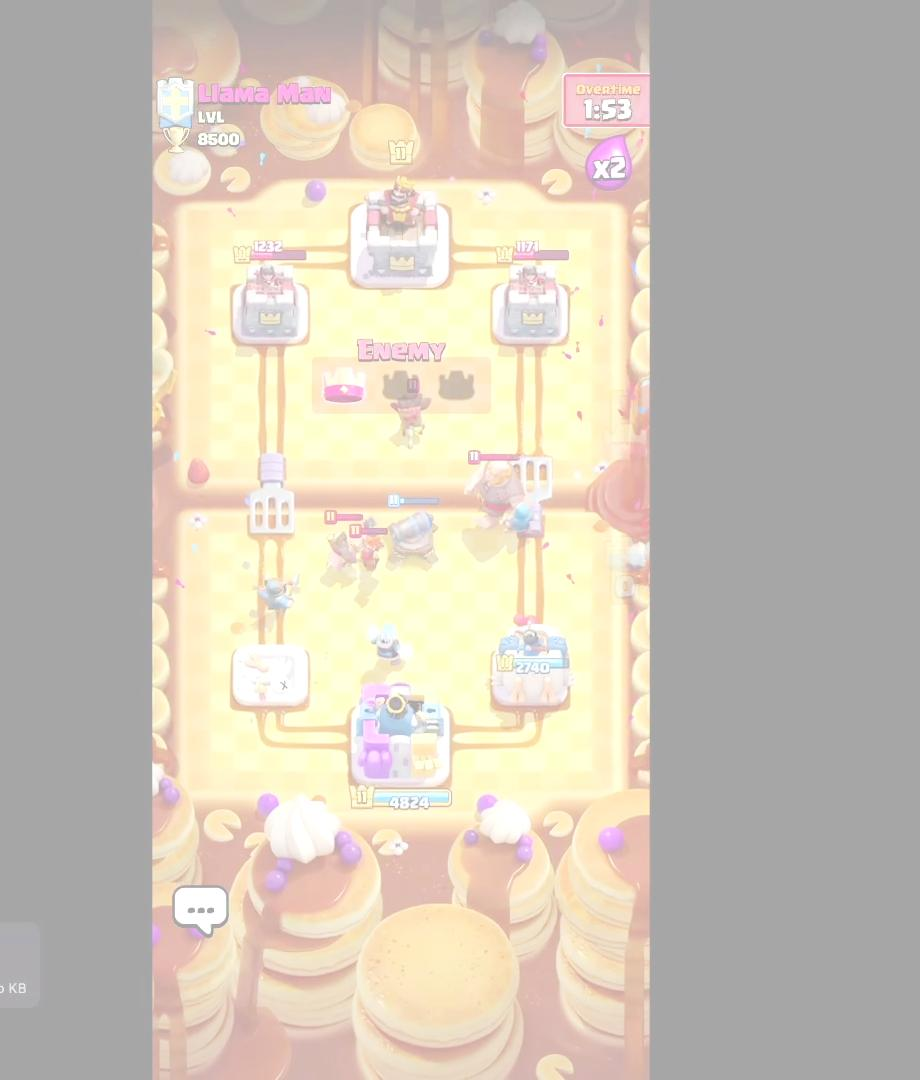Dart Goblin: (389, 376, 433, 450)
Giant: (462, 445, 526, 537)
Hog Rider: (322, 509, 368, 578)
Valkyrie: (349, 521, 388, 573)
